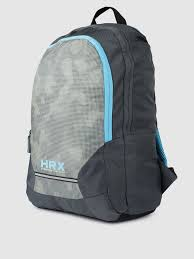backpack: (25, 6, 177, 222)
